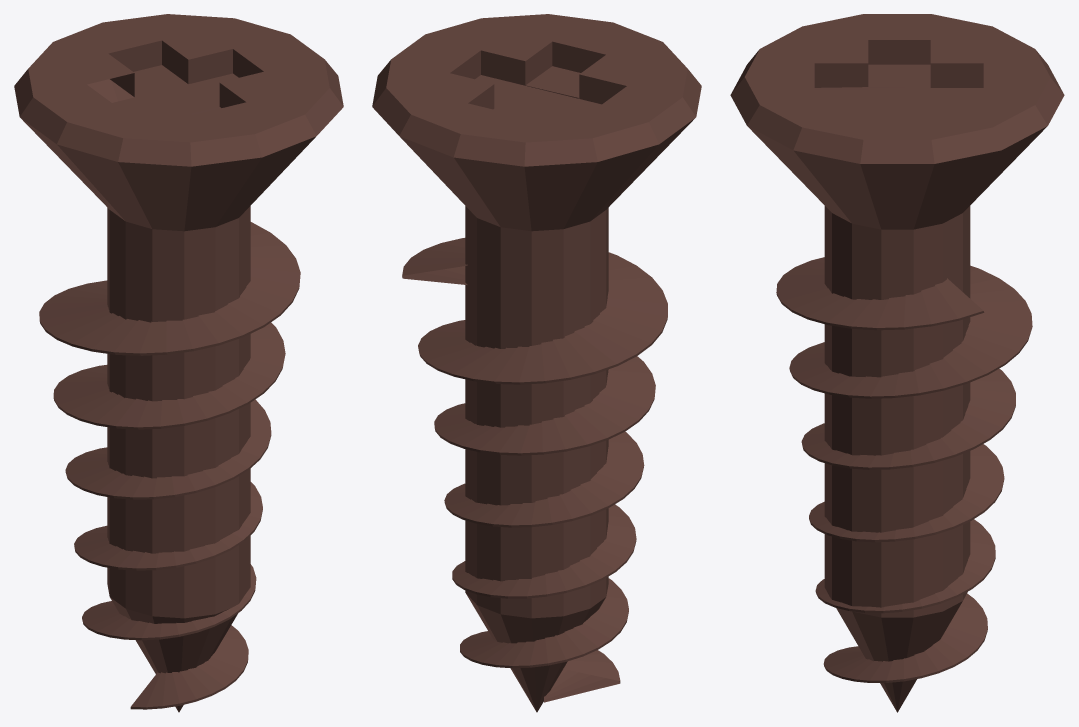
Rendered from screw2.fbx.
3 renders of one model, left to right at view 1: azimuth 30°, elevation 25°; view 2: azimuth 150°, elevation 25°; view 3: azimuth 270°, elevation 25°, orthographic.
Parts seen in each view (by area): view 1: Cylinder; view 2: Cylinder; view 3: Cylinder.
Boxes of the visible parts, x1,y1,x2,y2 form: Cylinder: (14,14,343,712); Cylinder: (372,14,701,712); Cylinder: (730,14,1064,712).
Size of the model in its own units: 8.62 by 18.57 by 8.84.
